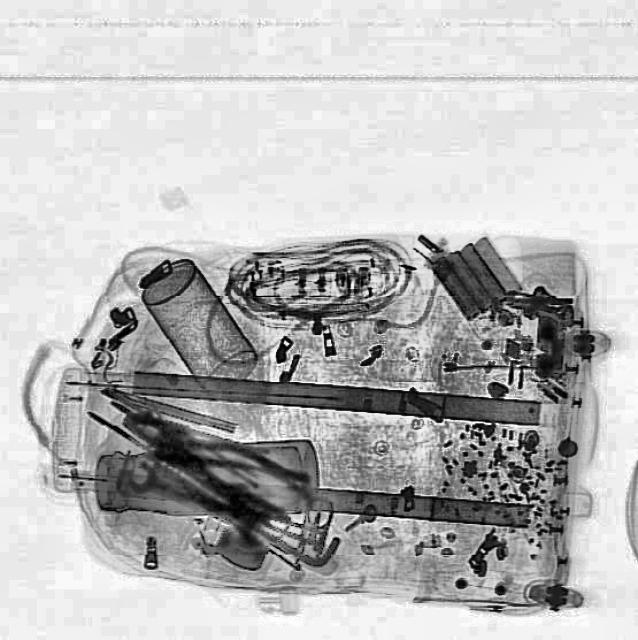Pliers: (107, 391, 315, 527)
Wrench: (121, 454, 238, 530)
